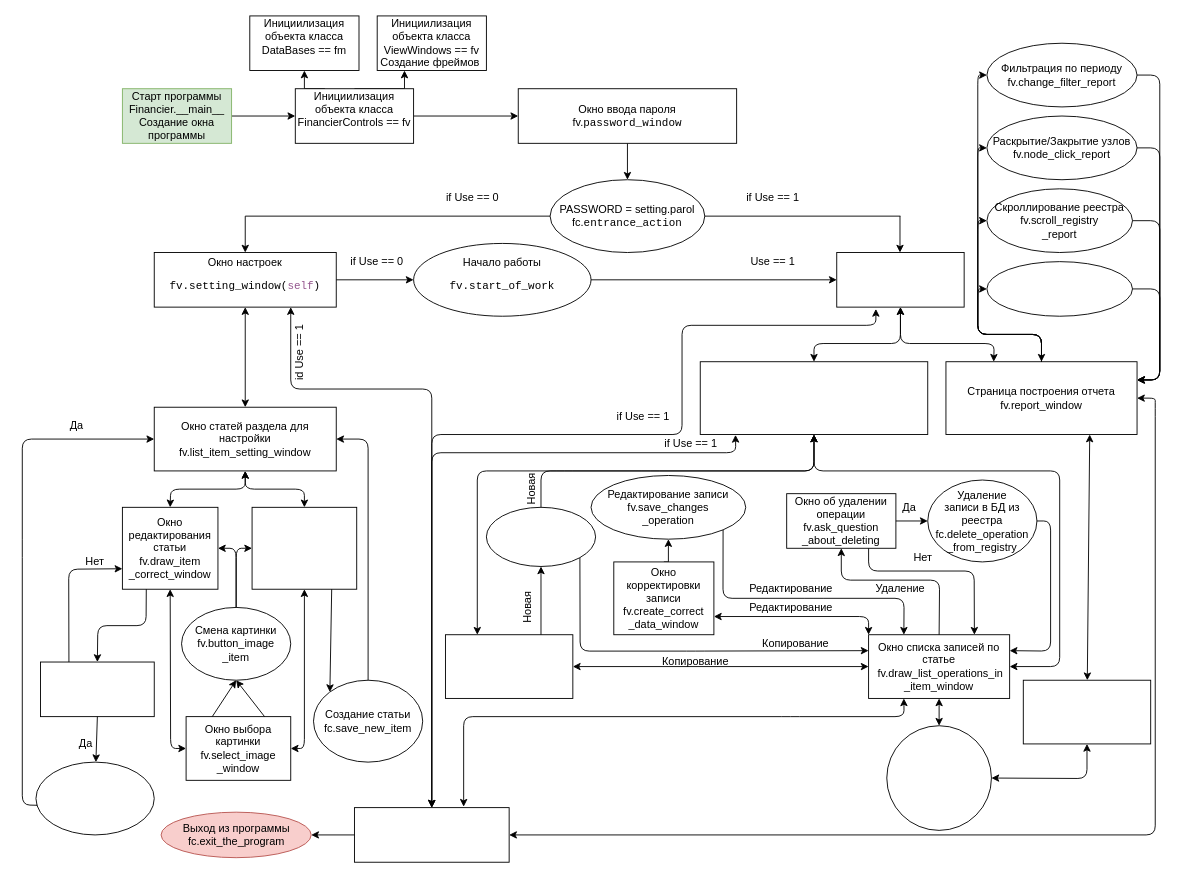
Image size: 1183x878. Some labels were removed from this diagram. Here are the shapes that lost their labels. From the top down, the centre of each, then its label:
At [900,279]: "Главная страница fv.main_window( self )".
At [1059,288]: "Изменение вида Узкий/Широкий fv.change_view _report".
At [813,398]: "Окно статей раздела для работы draw_list_item_for_enter_data_window".
At [304,547]: "Окно создания новой статьи fv.draw_item_create _new_window".
At [540,536]: "Создание записи fv.save_new _operation".
At [509,666]: "Окно создания новой записи fv.create_correct _data_window".
At [97,689]: "Окно вопроса с удалением fv.ask_question_item".
At [1086,711]: "Окно списка записей по статье для отчета fv.draw_data_item_in _report_window".
At [938,777]: "Изменение страница и фильтра по периоду fc.change_filter".
At [94,798]: "Удаление статьи fc.delete_item".
At [431,834]: "Окно меню fv.menu_window".
